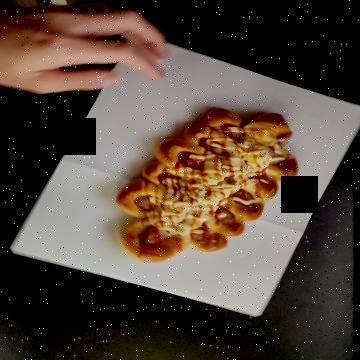pizza_bread: (115, 60, 272, 245)
